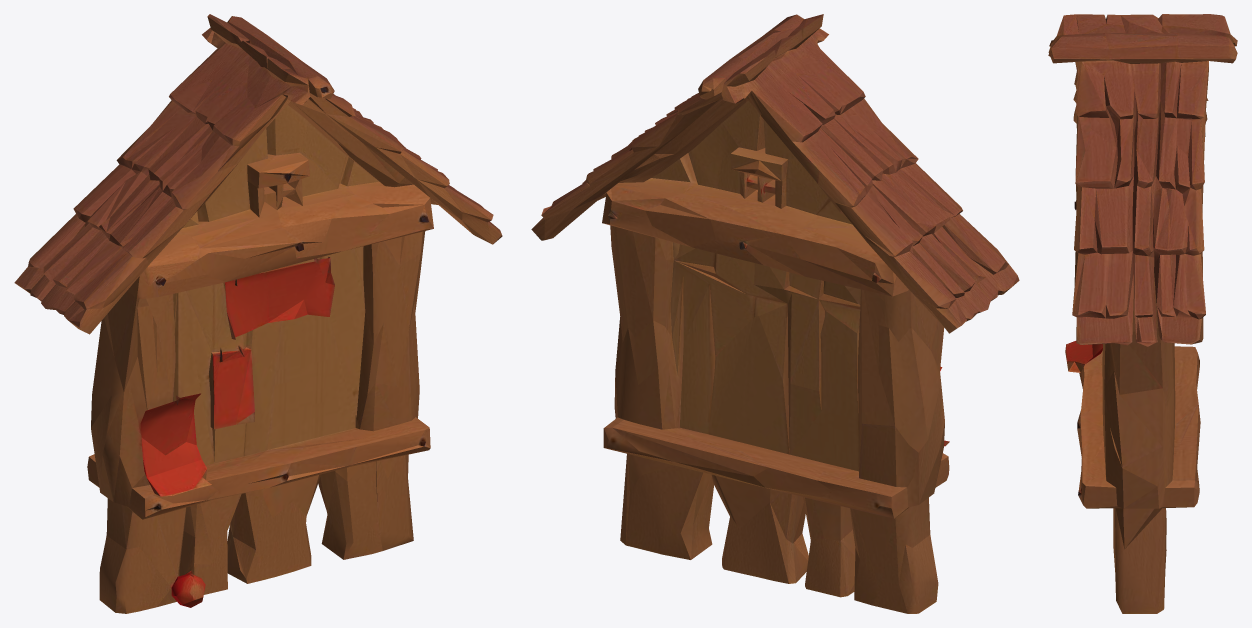
Rendered from quest_board.glb.
3 renders of one model, left to right at view 1: azimuth 30°, elevation 25°; view 2: azimuth 150°, elevation 25°; view 3: azimuth 270°, elevation 25°, orthographic.
Size of the model in its own units: 1.62 by 1.9 by 0.6211.
1 material, 1 textured.
